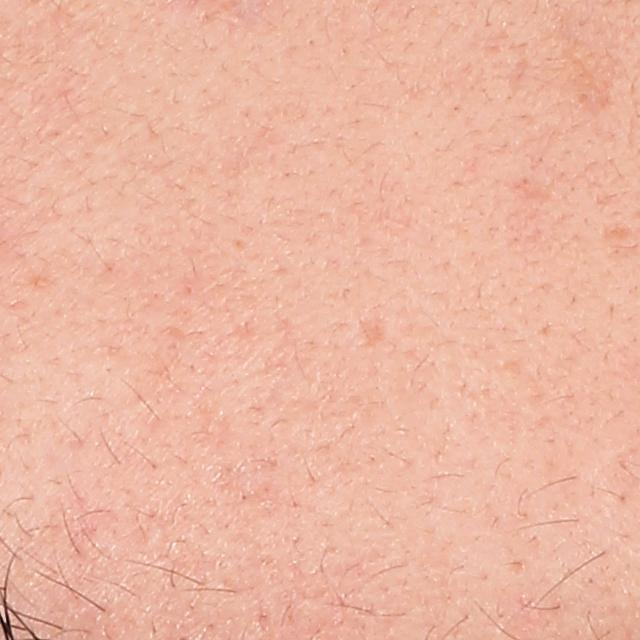atrophic_scar: (362, 317, 389, 348)
